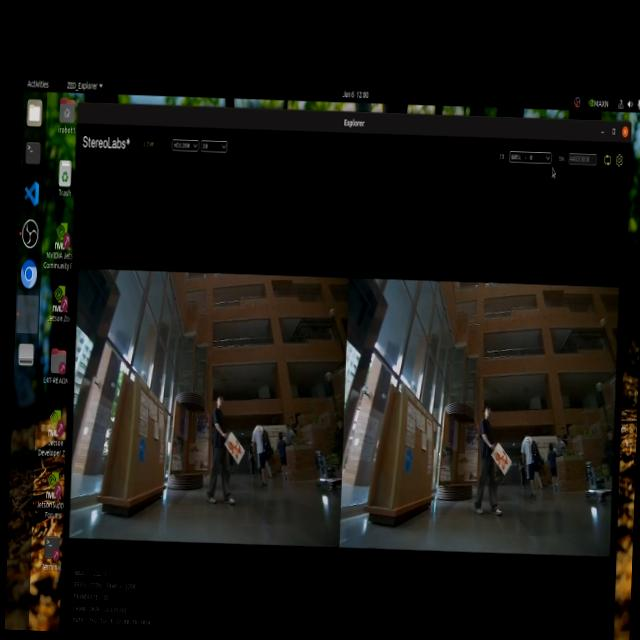red: (230, 437, 258, 482), (495, 447, 513, 489)
